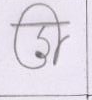i_matra: (45, 4, 66, 64)
